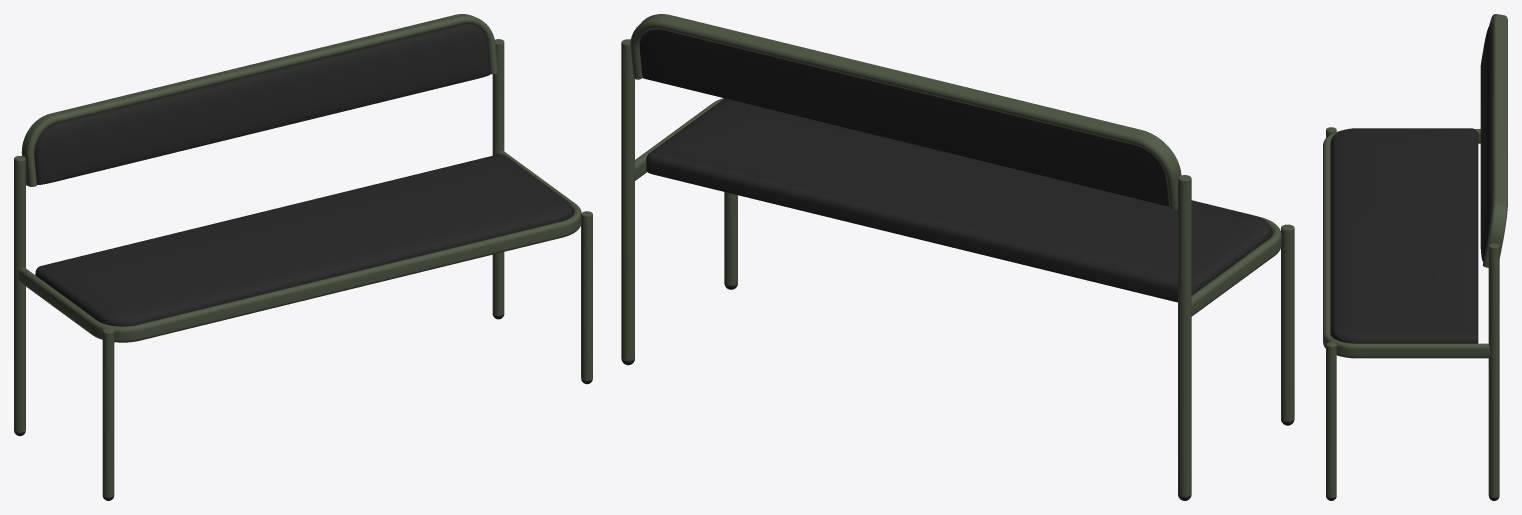
File: bench-noname.glb
3 views of the same model, side by side, from view 1: azimuth 30°, elevation 25°; view 2: azimuth 150°, elevation 25°; view 3: azimuth 270°, elevation 25° (orthographic). The views are drawn at different scales.
Visible parts, largest first — view 1: rb_bench_noname; view 2: rb_bench_noname; view 3: rb_bench_noname.
Boxes of the visible parts, x1,y1,x2,y2 form: rb_bench_noname: (14, 14, 592, 500); rb_bench_noname: (621, 14, 1294, 500); rb_bench_noname: (1323, 14, 1507, 500).
Size of the model in its own units: 1.33 by 0.8087 by 0.4755.
